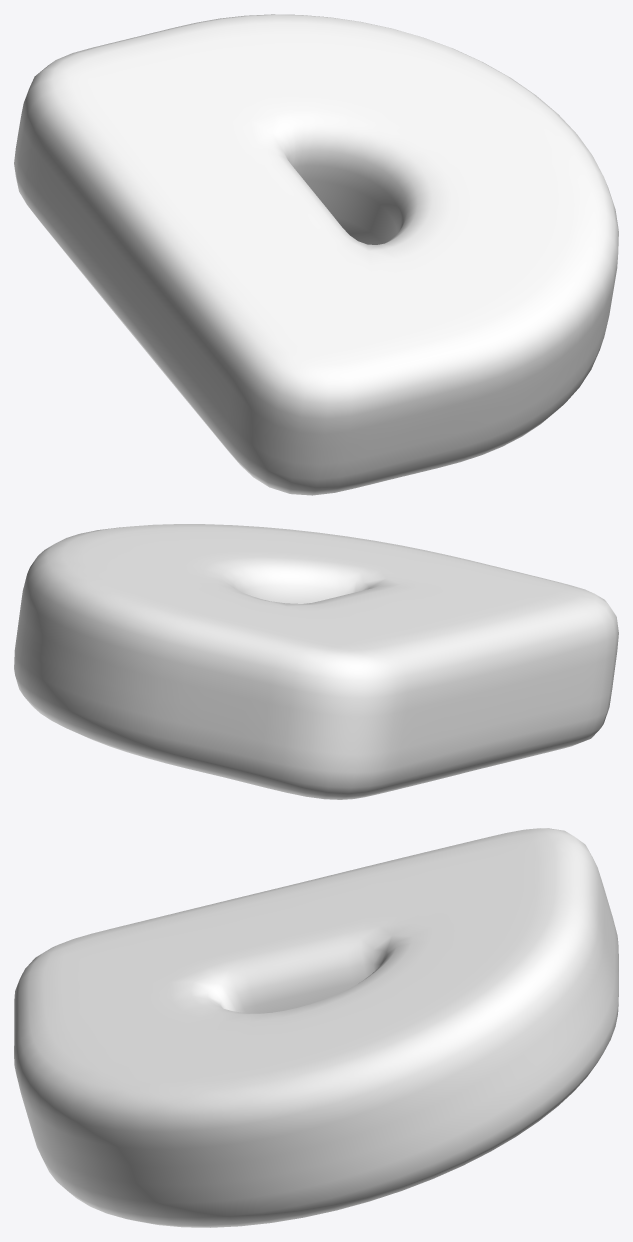
The picture shows the model from 3 angles, top to bottom: view 1: azimuth 30°, elevation 25°; view 2: azimuth 150°, elevation 25°; view 3: azimuth 270°, elevation 25°; orthographic projection.
Parts seen in each view (by area): view 1: Default(31CC6E85-207F-451D-AD80-FDBF3DF3829E); view 2: Default(31CC6E85-207F-451D-AD80-FDBF3DF3829E); view 3: Default(31CC6E85-207F-451D-AD80-FDBF3DF3829E).
Part boxes in pixels (x1=…): Default(31CC6E85-207F-451D-AD80-FDBF3DF3829E): x1=14, y1=14, x2=618, y2=495; Default(31CC6E85-207F-451D-AD80-FDBF3DF3829E): x1=14, y1=524, x2=618, y2=799; Default(31CC6E85-207F-451D-AD80-FDBF3DF3829E): x1=14, y1=828, x2=618, y2=1227.
Bounding box in the file's own units: 0.4356 × 0.2414 × 0.5107.
1 material, 1 textured.
